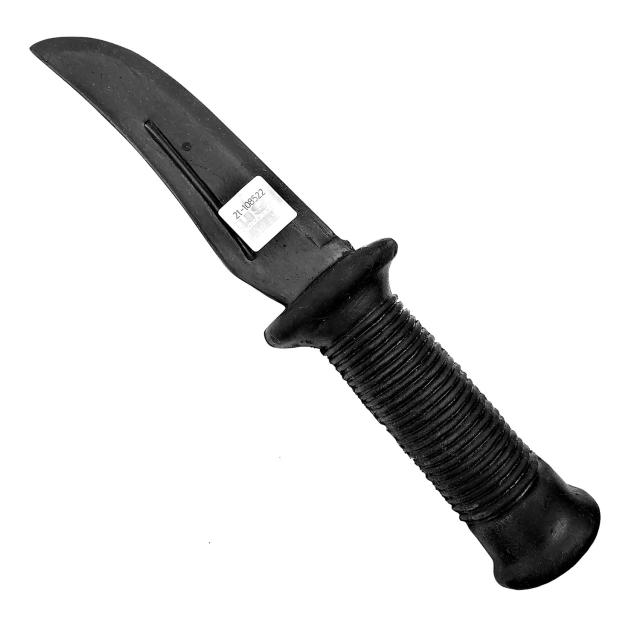Knife: (16, 19, 608, 613)
